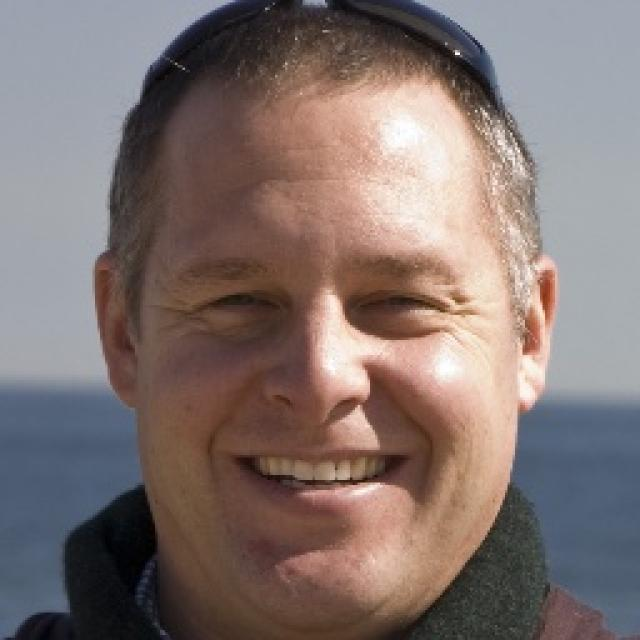earlobe: (517, 358, 550, 415), (106, 354, 136, 410)
eye: (358, 288, 450, 319), (198, 286, 279, 314)
nose: (270, 397, 366, 439)
wholeear: (91, 249, 138, 410), (517, 253, 559, 416)
